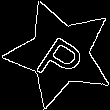P_NE: (30, 23, 90, 85)
